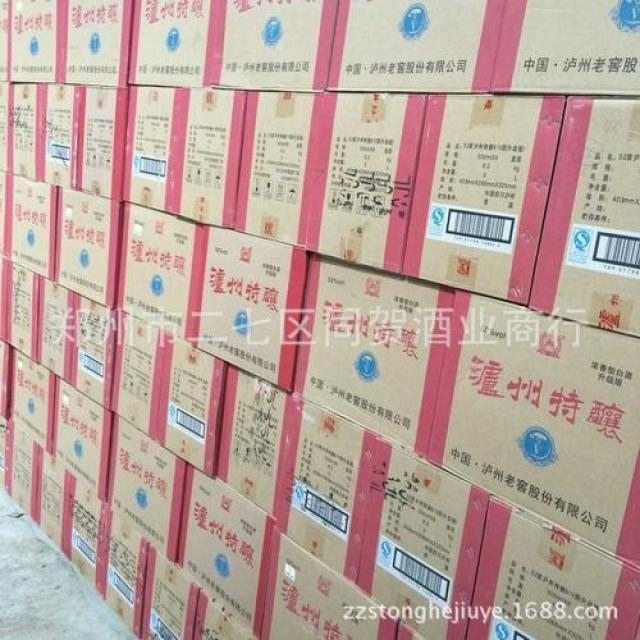box: (426, 289, 640, 571), (401, 93, 566, 306), (293, 252, 456, 458), (356, 436, 488, 640), (529, 96, 640, 338), (466, 495, 640, 640), (306, 93, 426, 274), (192, 223, 307, 392), (275, 394, 376, 585), (177, 463, 274, 640), (325, 0, 503, 93), (264, 527, 399, 640), (492, 0, 640, 96), (234, 91, 323, 248), (116, 201, 205, 343), (108, 415, 187, 564), (215, 364, 291, 517), (165, 87, 246, 229), (211, 0, 335, 91), (156, 333, 225, 477), (55, 187, 123, 311), (127, 0, 218, 87), (52, 375, 113, 504), (109, 310, 166, 439), (100, 508, 151, 639), (123, 84, 174, 211), (60, 0, 132, 87), (77, 84, 128, 200), (141, 545, 200, 639), (69, 294, 116, 410), (8, 175, 56, 280), (9, 347, 55, 454), (67, 474, 108, 594), (10, 0, 63, 82), (40, 83, 79, 191), (36, 275, 73, 383), (33, 447, 69, 556), (5, 419, 40, 521), (5, 260, 38, 361), (10, 83, 42, 180), (192, 589, 251, 640)
